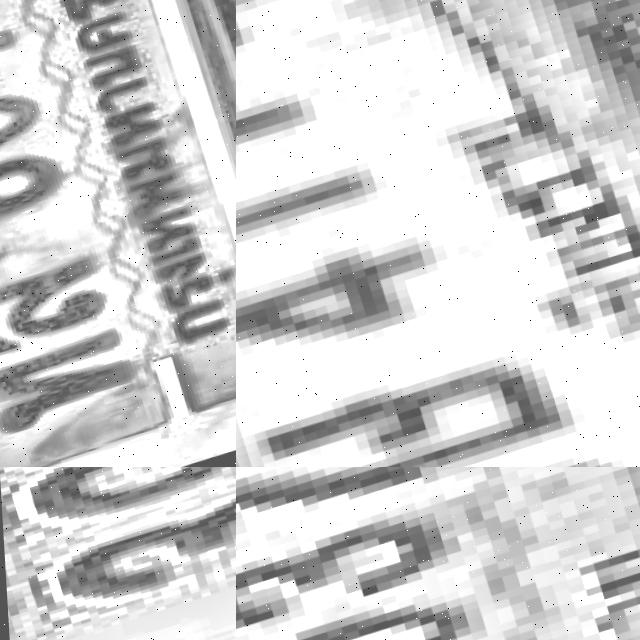license-plate: (236, 0, 640, 467), (0, 0, 236, 467), (236, 467, 640, 640), (0, 467, 236, 640)
